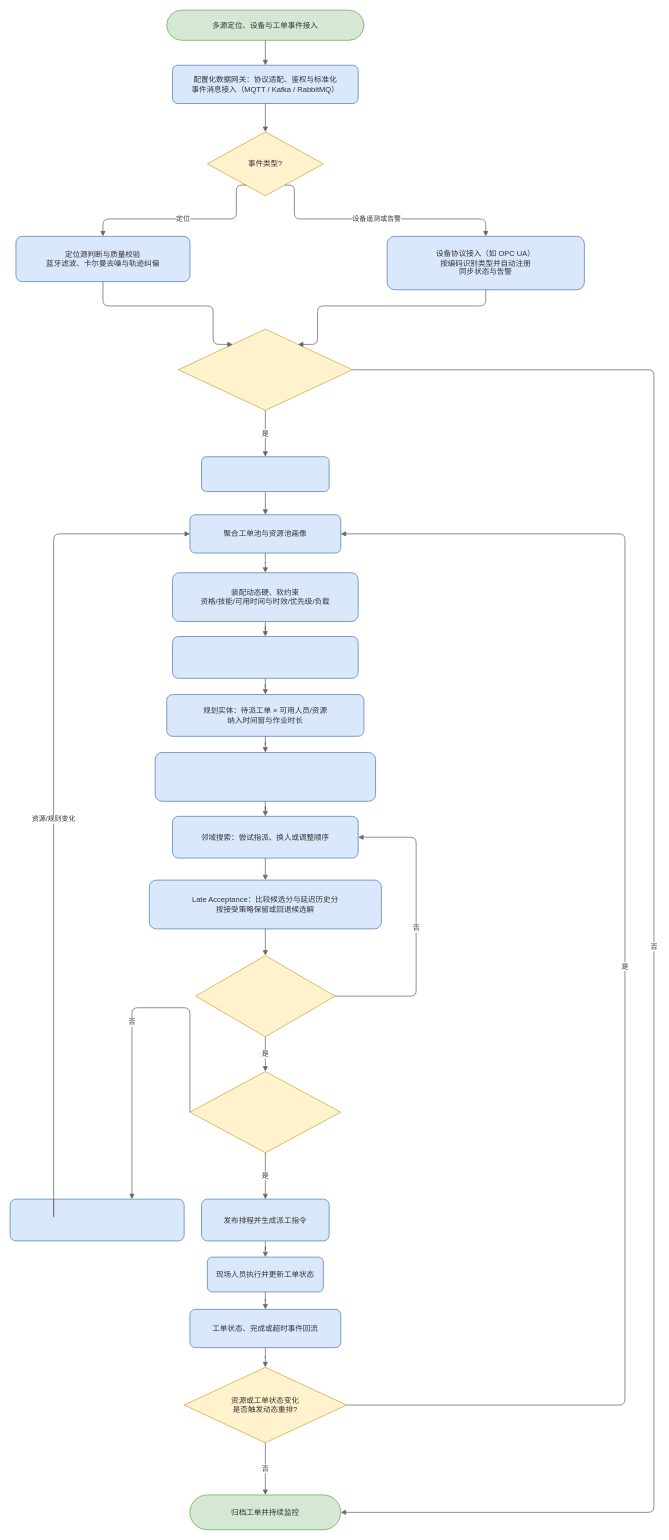
Image size: 669x1540. Some labels were removed from this diagram. Each missing label, with the box of its shape:
OptaPlanner 评分：硬约束判断可行性 软约束计算方案得分（score）: (154, 752, 376, 801)
人员状态画像 忙闲时间片 + 可配置规则评分: (172, 636, 358, 678)
按规则创建或归并工单: (201, 456, 329, 492)
无可行方案：保留待派工单 等待资源或规则变化后重试: (9, 1198, 184, 1241)
是否找到满足全部硬约束的可行方案?: (189, 1071, 341, 1153)
是否触发告警、工单超时 或业务事件规则?: (178, 328, 353, 411)
达到时间/迭代上限 或搜索收敛?: (195, 955, 335, 1037)
